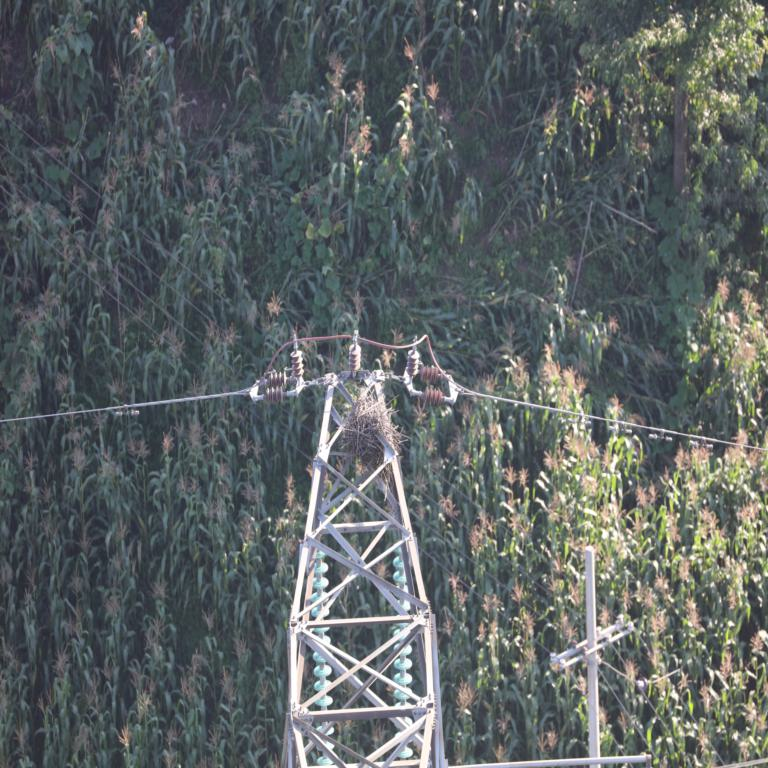nest: (345, 396, 398, 466)
